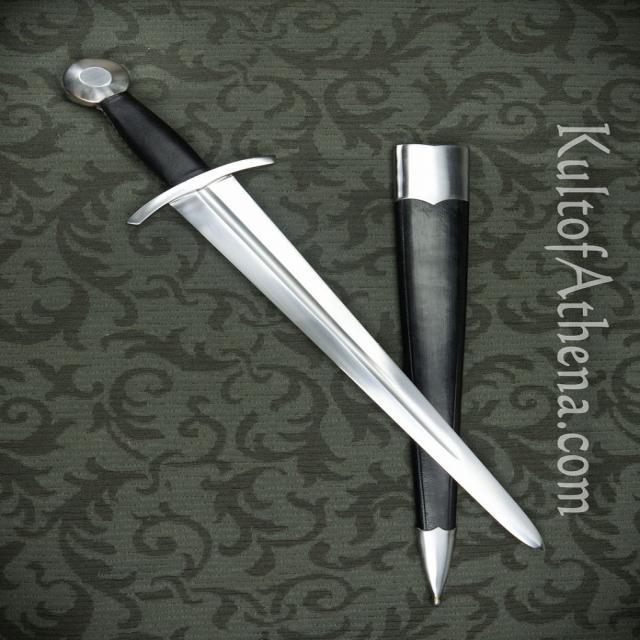short sword: (45, 40, 558, 626)
